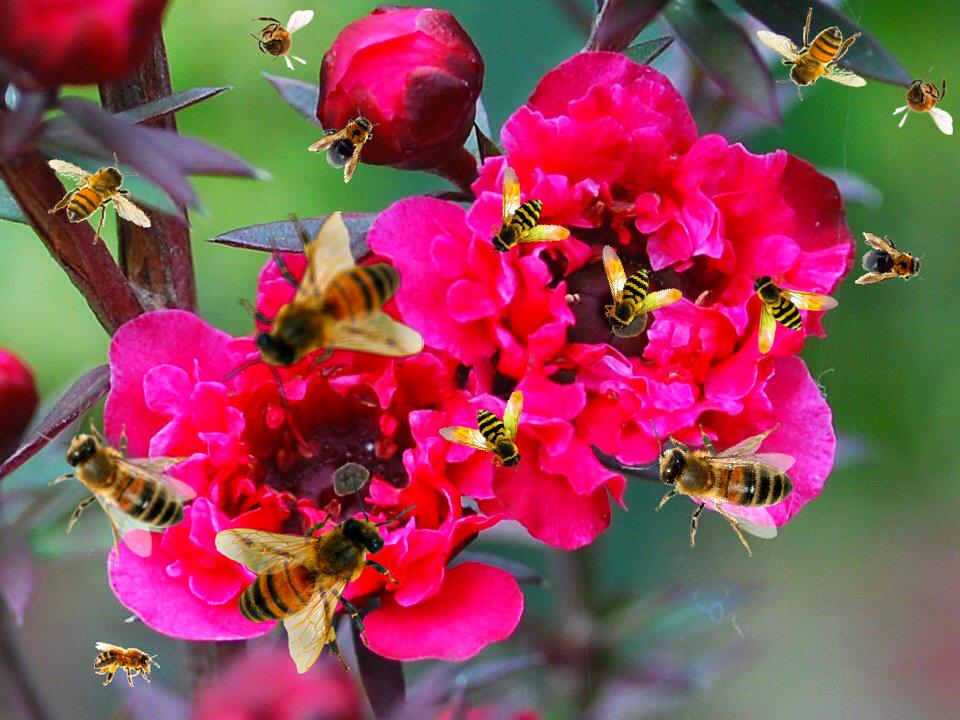Bee: (608, 371, 825, 591), (221, 211, 425, 410), (214, 475, 418, 674), (35, 399, 197, 566), (38, 144, 161, 252), (576, 224, 688, 338), (756, 7, 867, 101), (478, 158, 572, 258), (434, 380, 532, 474), (306, 98, 390, 184), (751, 272, 839, 354), (855, 232, 929, 292), (244, 10, 314, 71), (892, 65, 953, 135), (94, 642, 160, 687)
